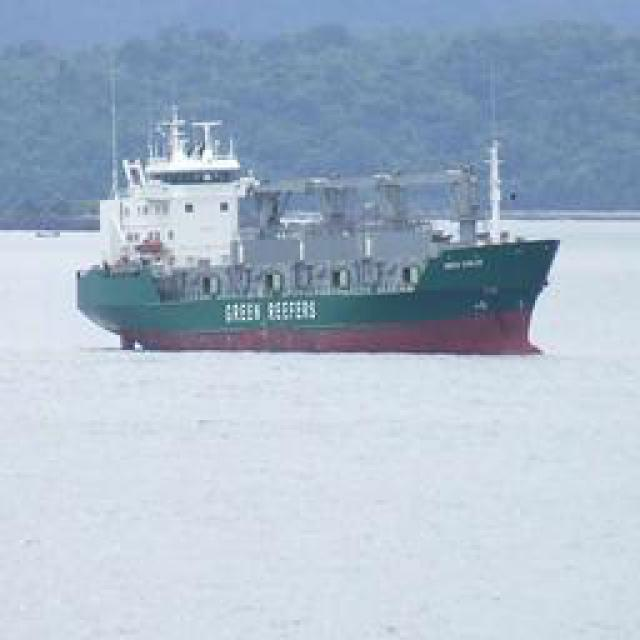Ship: (77, 105, 565, 355)
